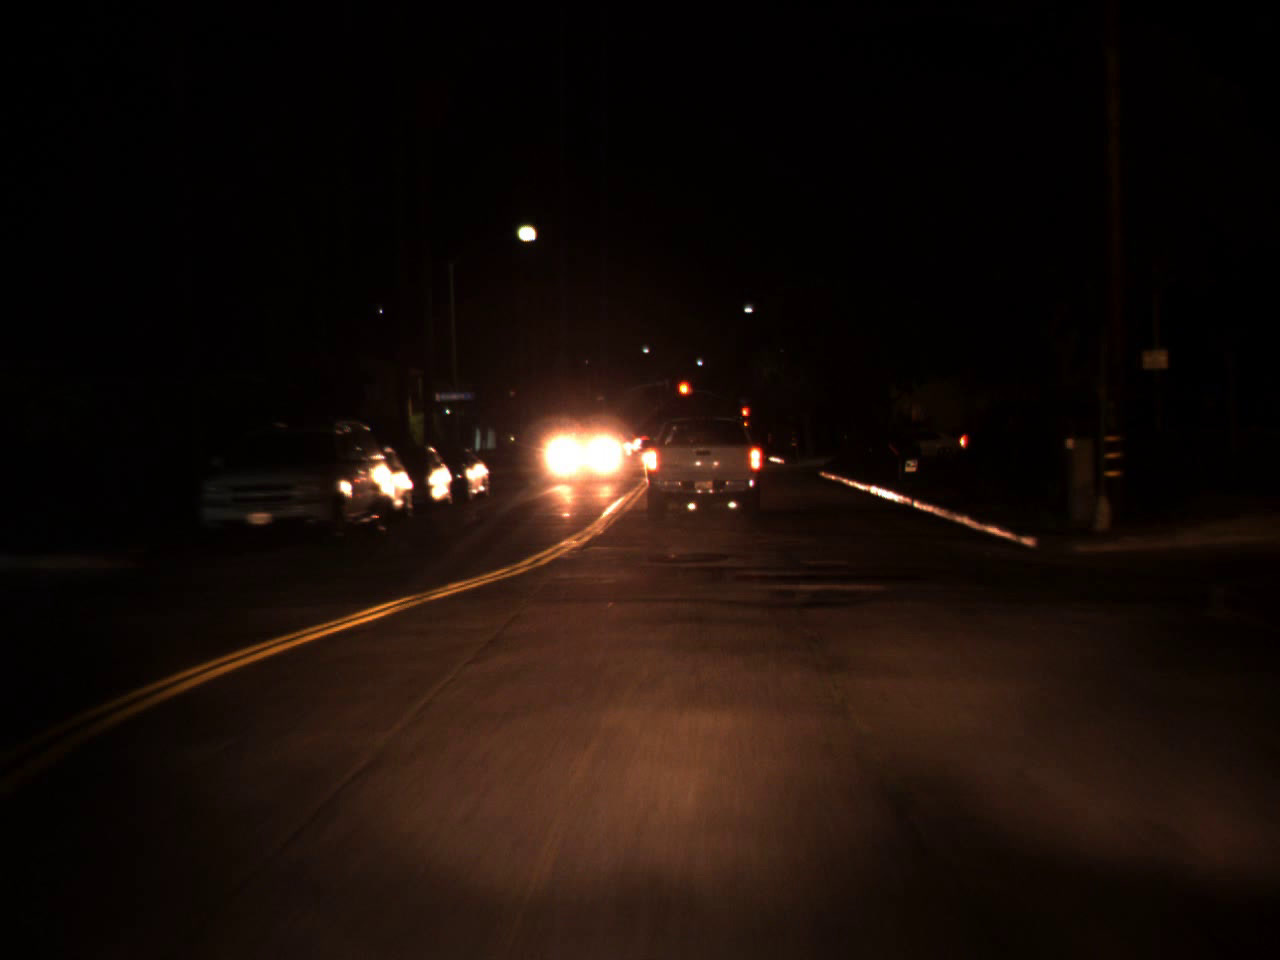stop: (676, 379, 692, 411), (741, 406, 748, 427)
